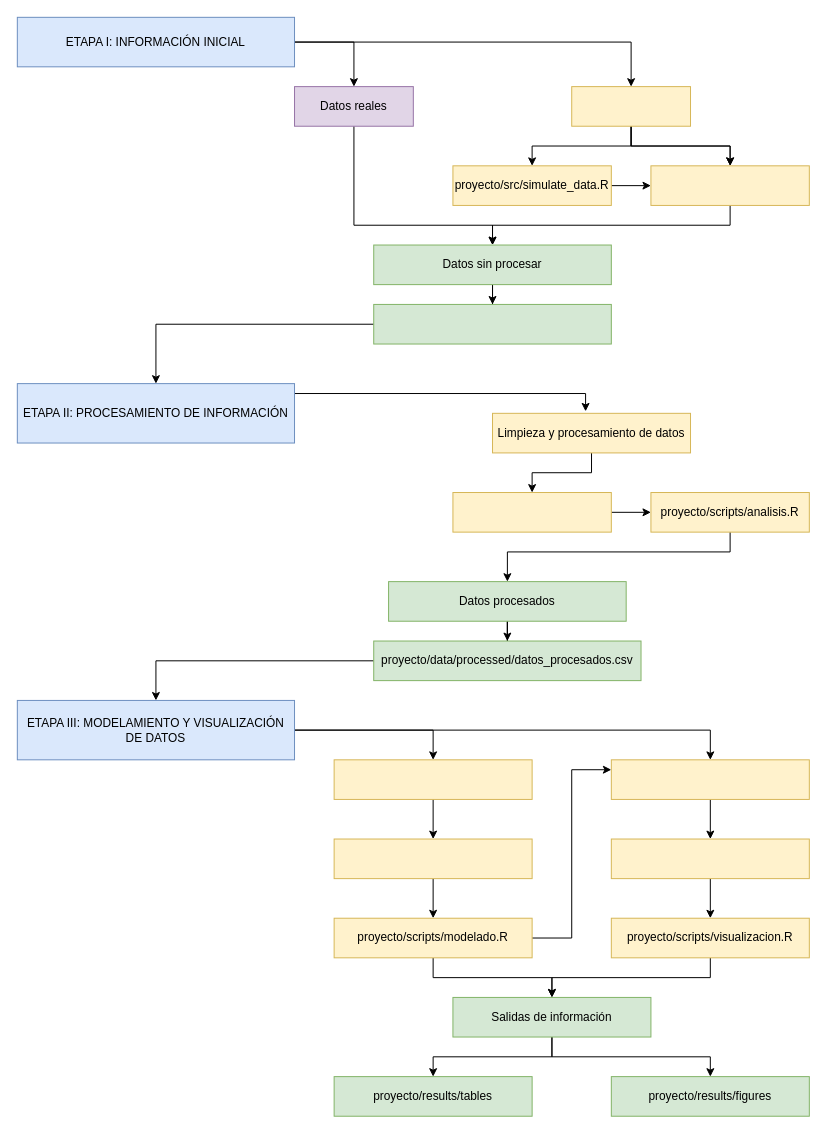
The diagram is 827 pixels wide and 1134 high, and some of its shapes have lost their labels. The centre of each missing label's shape, as x and y in pixels:
"Modelamiento estadístico" goes at point (432, 779).
"proyecto/data/raw/datos_simulados.csv" goes at point (492, 323).
"proyecto/scripts/simulacion.R" goes at point (729, 185).
"proyecto/src/analyze_data.R" goes at point (531, 512).
"proyecto/src/fit_model.R" goes at point (432, 858).
"proyecto/src/plot_results.R" goes at point (709, 858).
"Simulación de datos" goes at point (631, 106).
"Visualización de datos" goes at point (709, 779).
